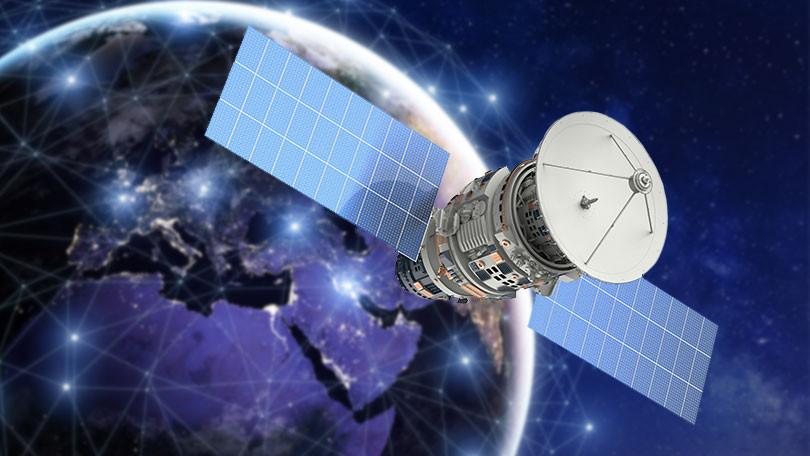antenna: (533, 108, 671, 286)
body: (392, 156, 586, 306)
solar: (202, 23, 452, 264), (525, 268, 721, 428)
